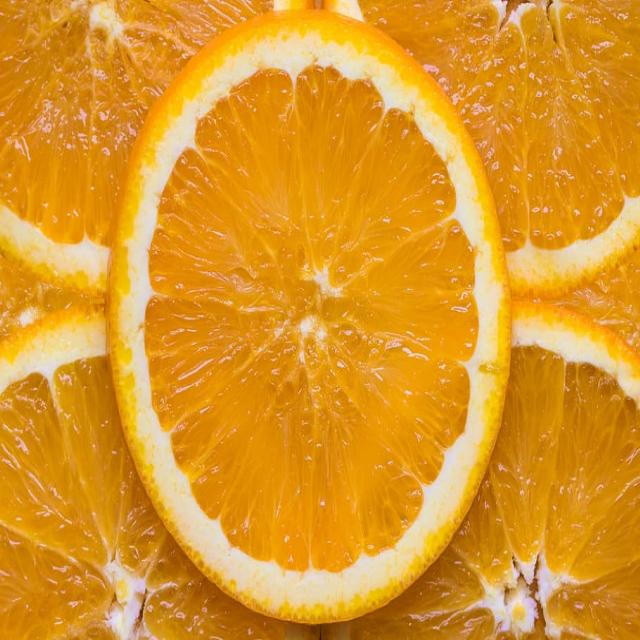orange: (106, 17, 510, 629)
